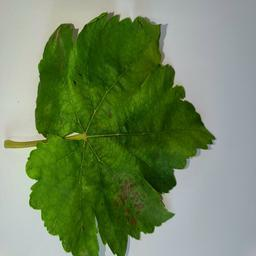Powdery-Mildew: (115, 177, 146, 219), (30, 140, 63, 173), (57, 82, 81, 122), (140, 41, 156, 57)
